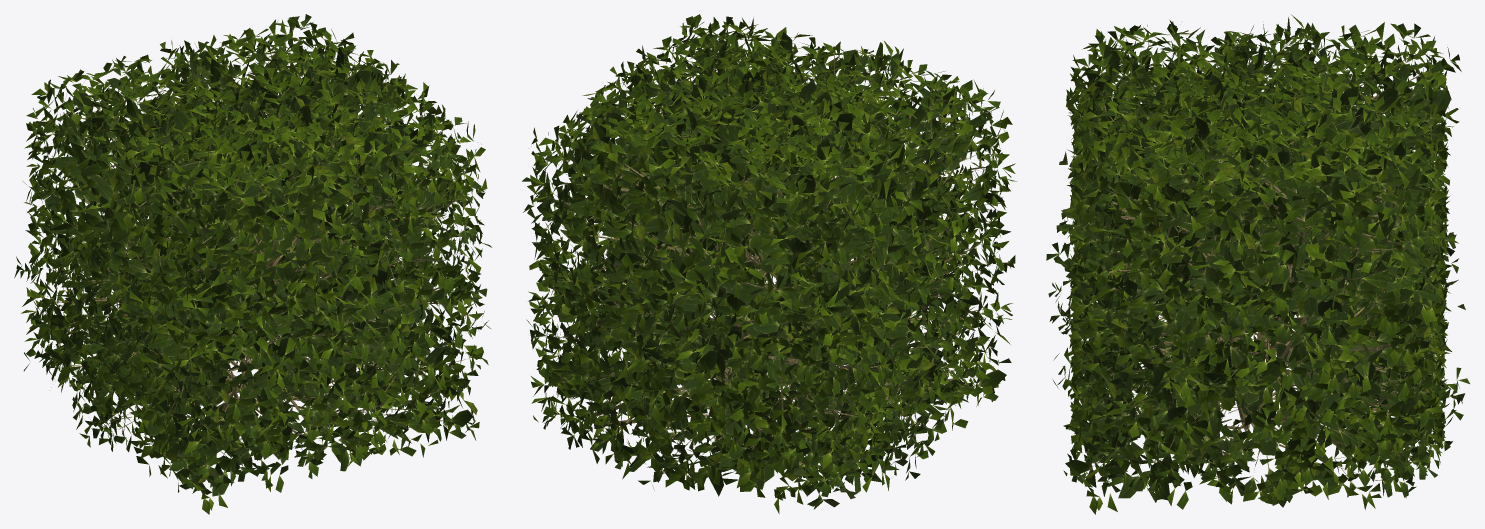
Rendered from bush_square.glb.
3 views of the same model, side by side, from view 1: azimuth 30°, elevation 25°; view 2: azimuth 150°, elevation 25°; view 3: azimuth 270°, elevation 25° (orthographic). The views are drawn at different scales.
Parts seen in each view (by area): view 1: Object_2; view 2: Object_2; view 3: Object_2.
Boxes of the visible parts, x1,y1,x2,y2 form: Object_2: (14,14,492,514); Object_2: (522,14,1016,513); Object_2: (1046,14,1469,514).
Size of the model in its own units: 8.67 by 8.19 by 8.67.
1 material, 1 textured.
